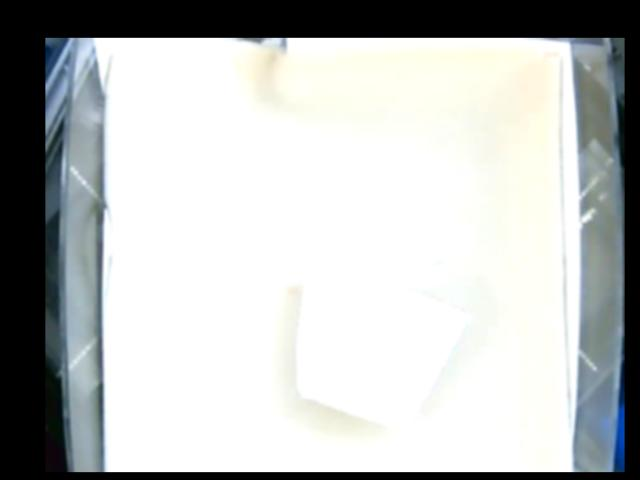Cup: (294, 258, 471, 424)
